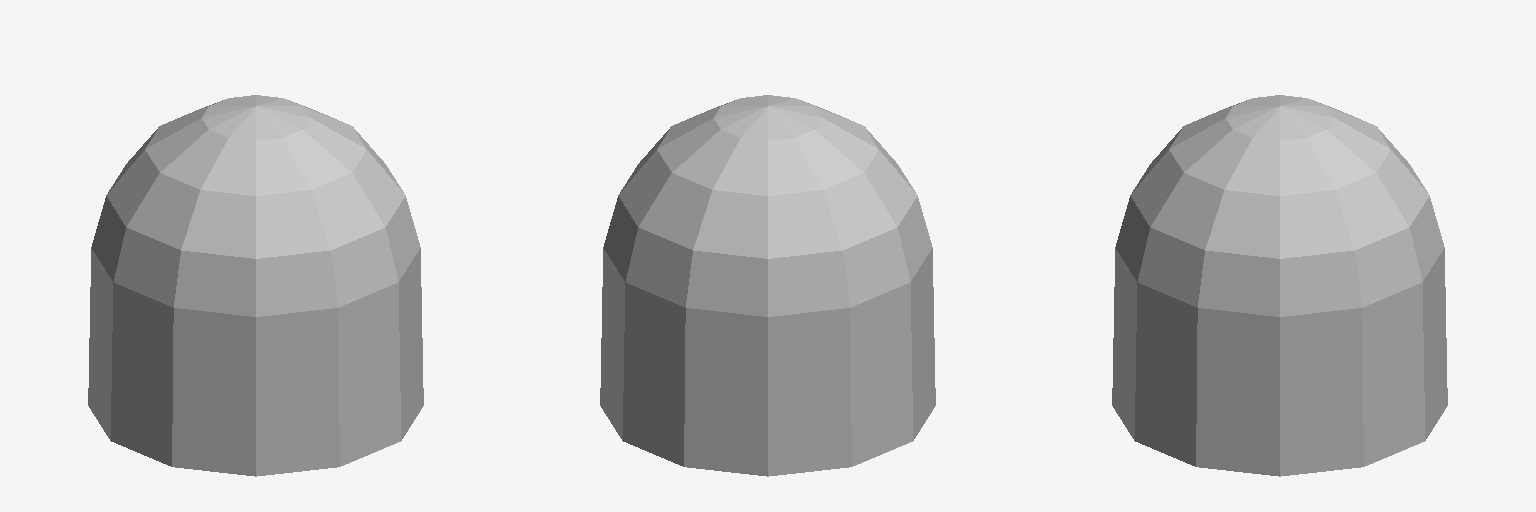
Rendered from roundTip.obj.
3 renders of one model, left to right at view 1: azimuth 30°, elevation 25°; view 2: azimuth 150°, elevation 25°; view 3: azimuth 270°, elevation 25°, orthographic.
Bounding box in the file's own units: 2 × 1.97 × 2.